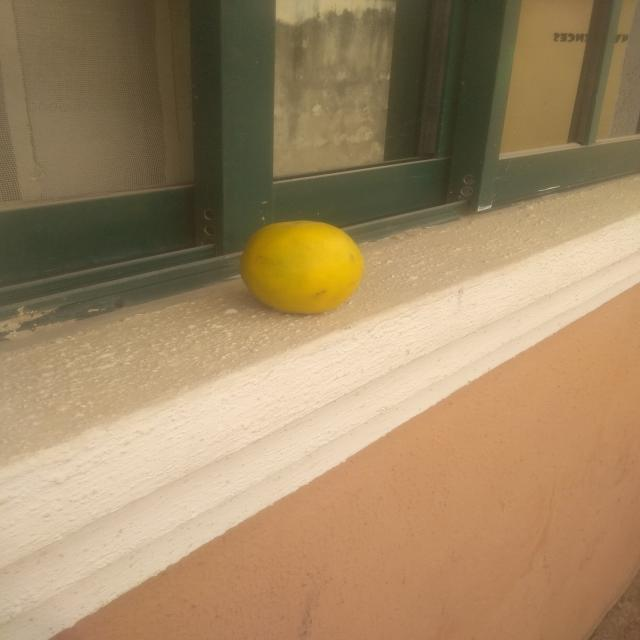Ripe orange: (217, 206, 376, 318)
